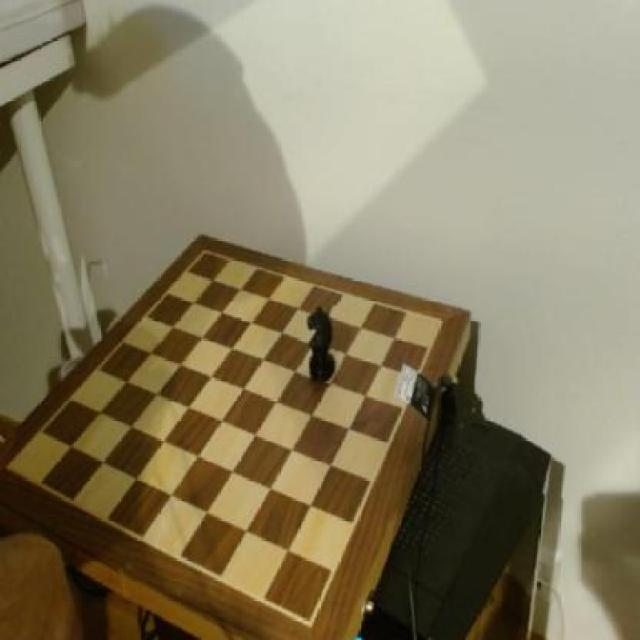black-king: (298, 308, 344, 389)
